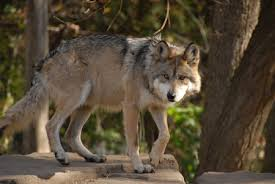Lobo: (28, 1, 203, 184)
